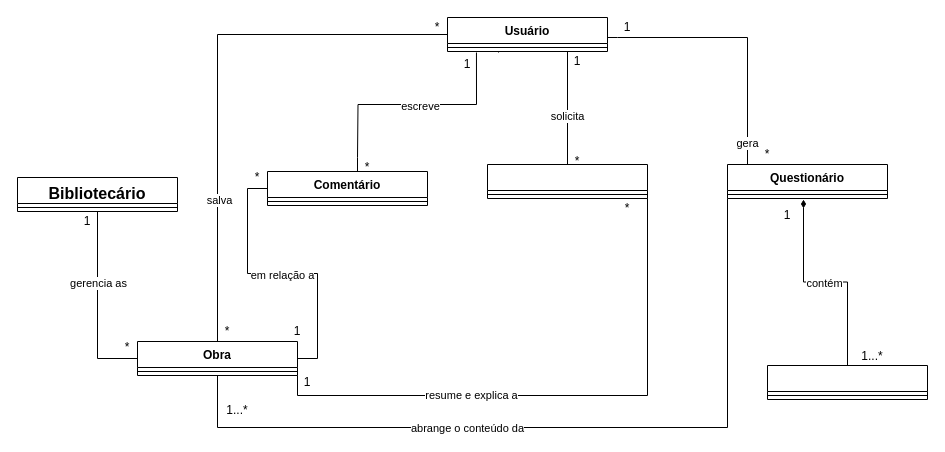
Image size: 945x452. Some labels were removed from this diagram. Each missing label, with the centre of its shape:
Questão: the point at 847,382
Resumo: the point at 567,181
